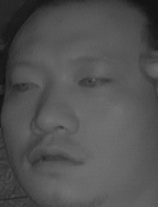eye: (77, 71, 109, 92), (11, 76, 42, 97)
mouth: (26, 140, 84, 175)
